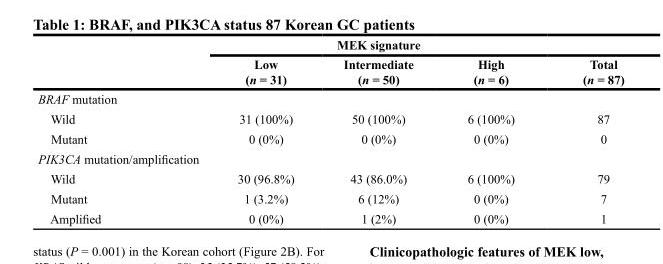table: (37, 37, 623, 225)
table column: (37, 37, 217, 225), (318, 37, 439, 225), (439, 37, 548, 225), (217, 37, 318, 225), (548, 37, 623, 225)
table column header: (37, 37, 623, 88)
table projected row header: (37, 88, 623, 108), (37, 148, 623, 168)
table row: (37, 54, 623, 88), (37, 88, 623, 108), (37, 108, 623, 128), (37, 128, 623, 148), (37, 148, 623, 168), (37, 168, 623, 188), (37, 188, 623, 208), (37, 37, 623, 54), (37, 208, 623, 225)
table spanning cell: (217, 37, 548, 54), (548, 37, 623, 88)
